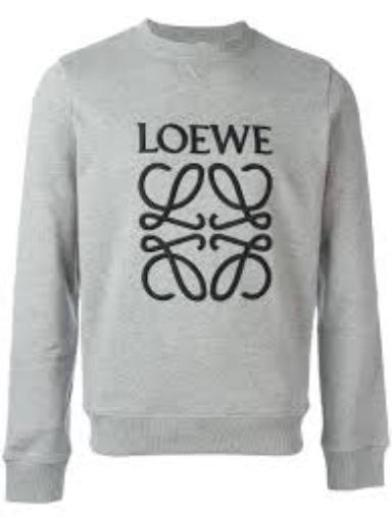LOEWE: (114, 102, 278, 318)
